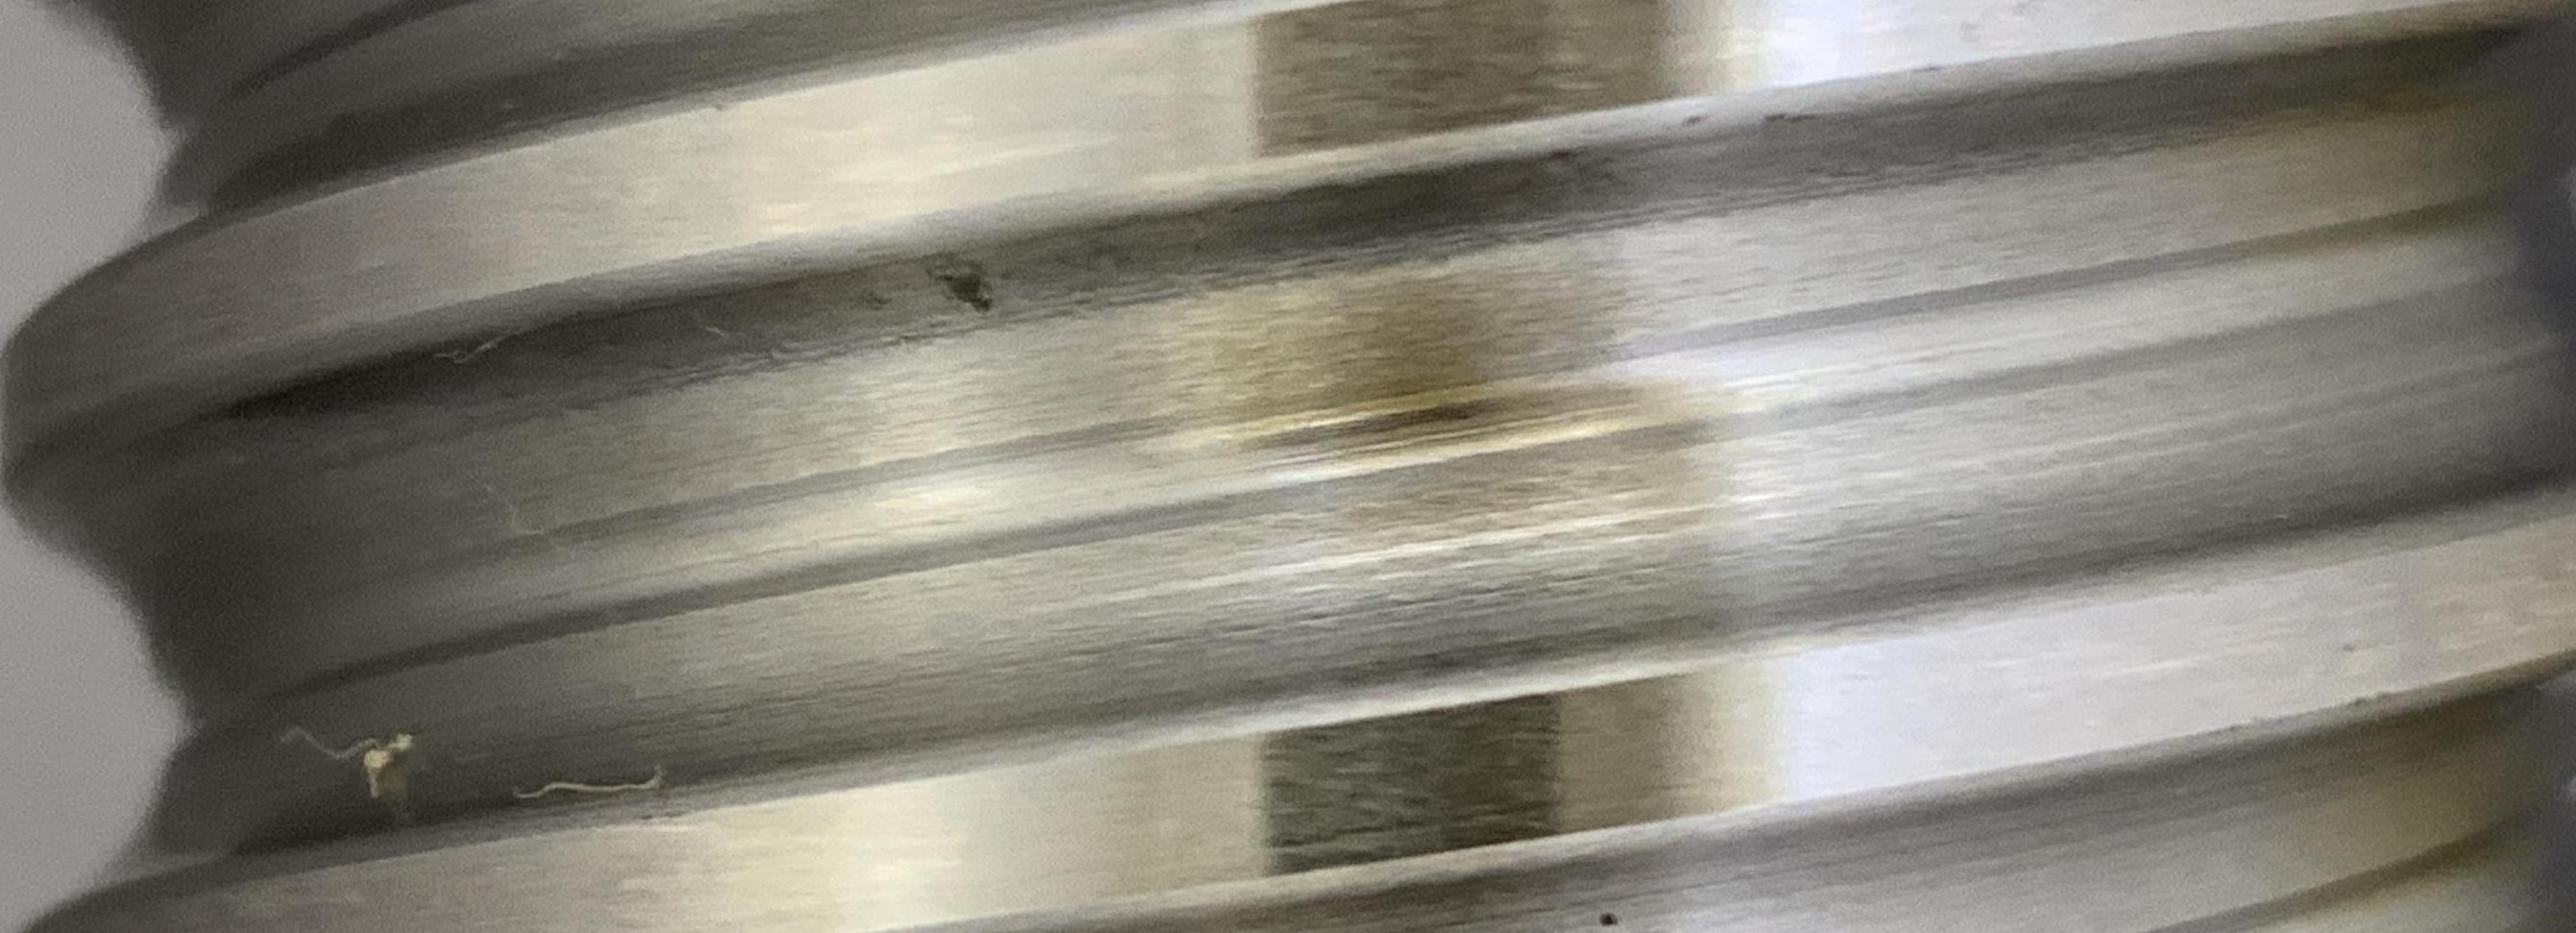pitting: (935, 271, 994, 314)
